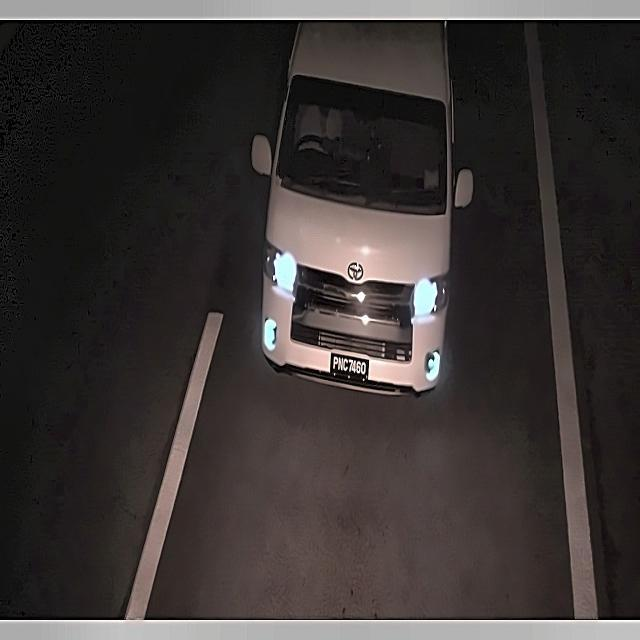car: (330, 352, 371, 385)
